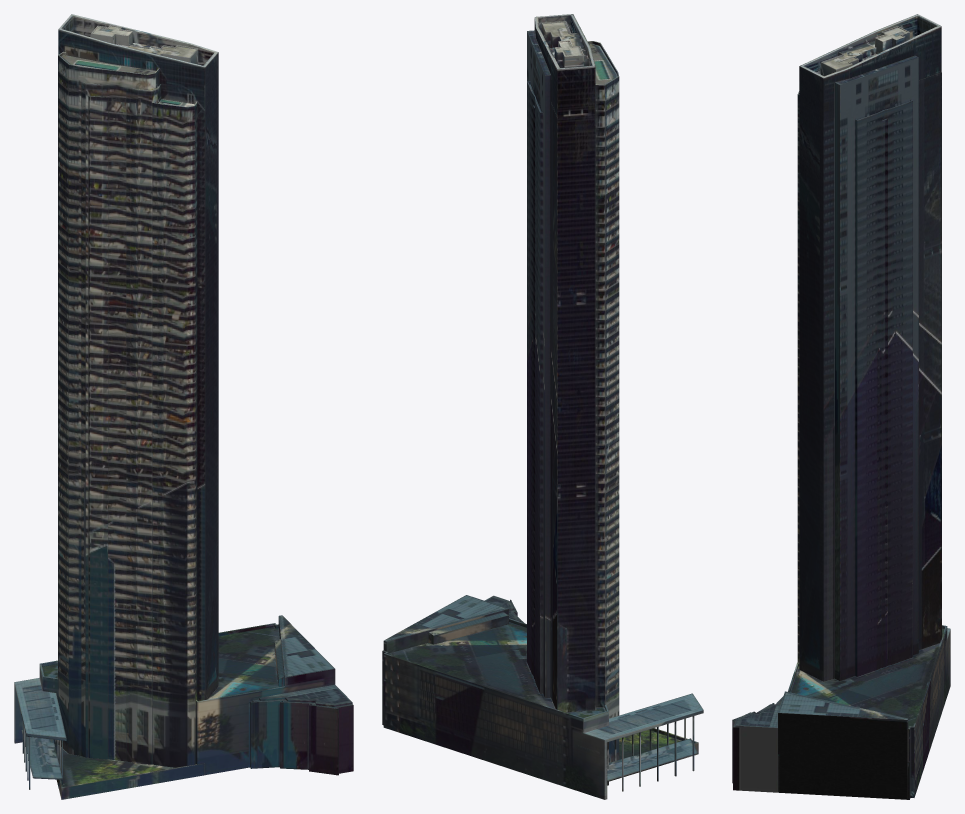
3 renders of one model, left to right at view 1: azimuth 30°, elevation 25°; view 2: azimuth 150°, elevation 25°; view 3: azimuth 270°, elevation 25°, orthographic. The views are drawn at different scales.
Visible parts, largest first — view 1: 8_0.glb; view 2: 8_0.glb; view 3: 8_0.glb.
Part boxes in pixels (x1,y1,x2,y2): 8_0.glb: (14,14,353,799); 8_0.glb: (382,14,703,799); 8_0.glb: (732,14,950,799).
Bounding box in the file's own units: 101 × 241 × 69.69.
Materials: 2 (2 with a texture image).
